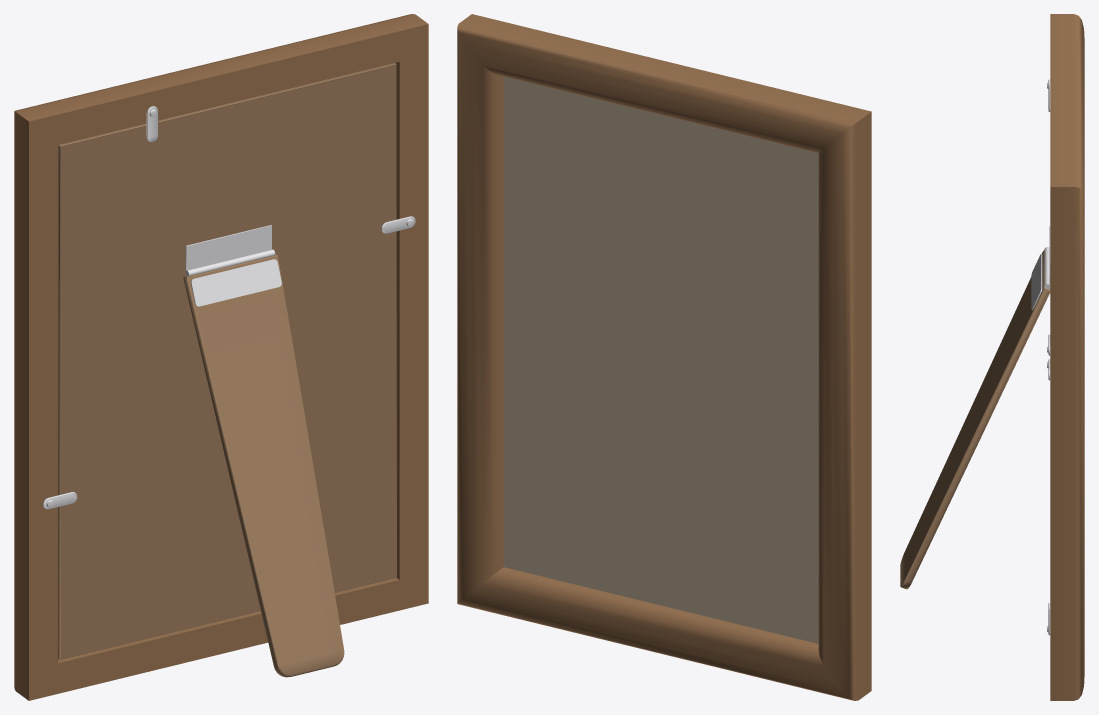
File: Inspect_Photo.fbx
The picture shows the model from 3 angles, left to right: view 1: azimuth 30°, elevation 25°; view 2: azimuth 150°, elevation 25°; view 3: azimuth 270°, elevation 25°; orthographic projection. The views are drawn at different scales.
Visible parts, largest first — view 1: Inspect_Photo; view 2: Inspect_Photo; view 3: Inspect_Photo.
Part boxes in pixels (left/top/right/bottom): Inspect_Photo: left=14, top=14, right=428, bottom=700; Inspect_Photo: left=457, top=14, right=871, bottom=700; Inspect_Photo: left=900, top=14, right=1084, bottom=700.
Bounding box in the file's own units: 0.13 × 0.18 × 0.0585.
